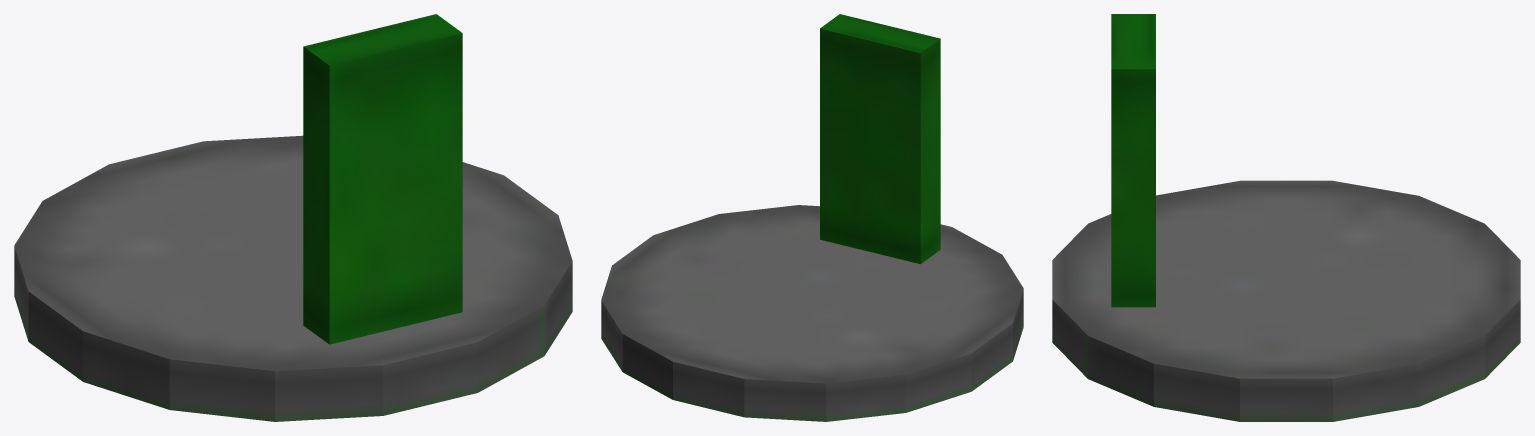
File: AMS-bottom.obj
3 renders of one model, left to right at view 1: azimuth 30°, elevation 25°; view 2: azimuth 150°, elevation 25°; view 3: azimuth 270°, elevation 25°, orthographic. The views are drawn at different scales.
Parts seen in each view (by area): view 1: TurretBase; view 2: TurretBase; view 3: TurretBase.
Part boxes in pixels (x1,y1,x2,y2): TurretBase: (14, 14, 572, 421); TurretBase: (601, 14, 1023, 421); TurretBase: (1052, 14, 1520, 421).
Bounding box in the file's own units: 0.9808 × 0.65 × 0.9808.
